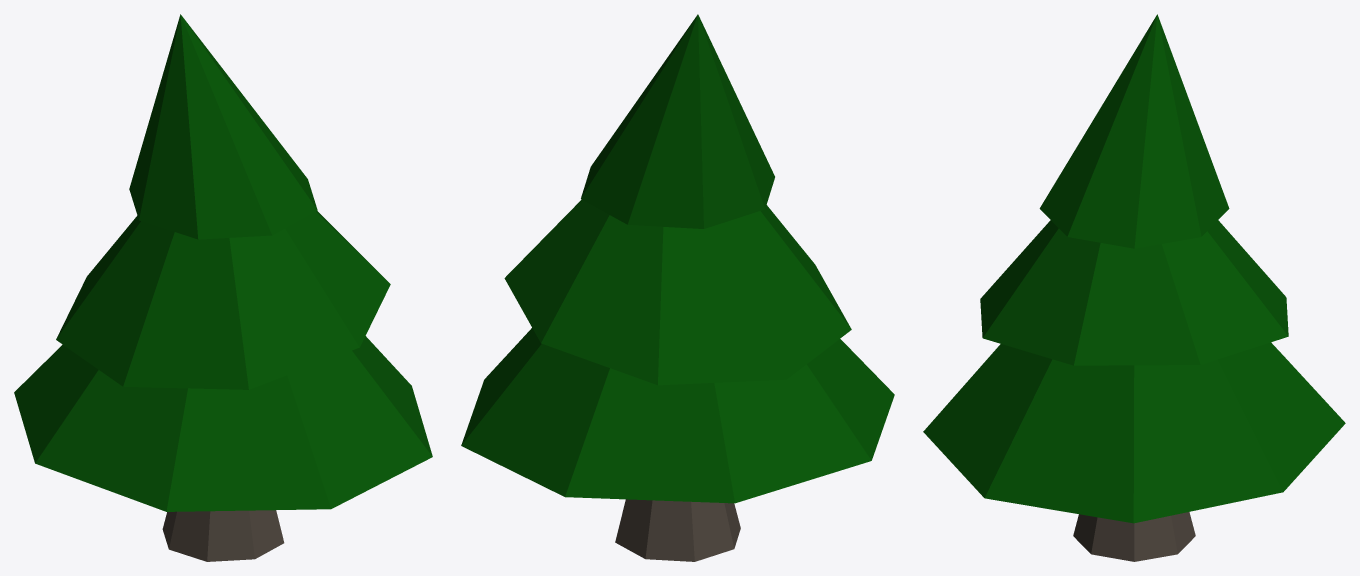
Rendered from Tree_cone_Wide.fbx.
3 renders of one model, left to right at view 1: azimuth 30°, elevation 25°; view 2: azimuth 150°, elevation 25°; view 3: azimuth 270°, elevation 25°, orthographic. The views are drawn at different scales.
Visible parts, largest first — view 1: Tree_ConeLrg; view 2: Tree_ConeLrg; view 3: Tree_ConeLrg.
Part boxes in pixels (box(x1,y1,x2,y2)): Tree_ConeLrg: box(14, 14, 432, 561); Tree_ConeLrg: box(461, 14, 894, 561); Tree_ConeLrg: box(923, 14, 1345, 561).
Bounding box in the file's own units: 14.2 × 18.81 × 14.21.
